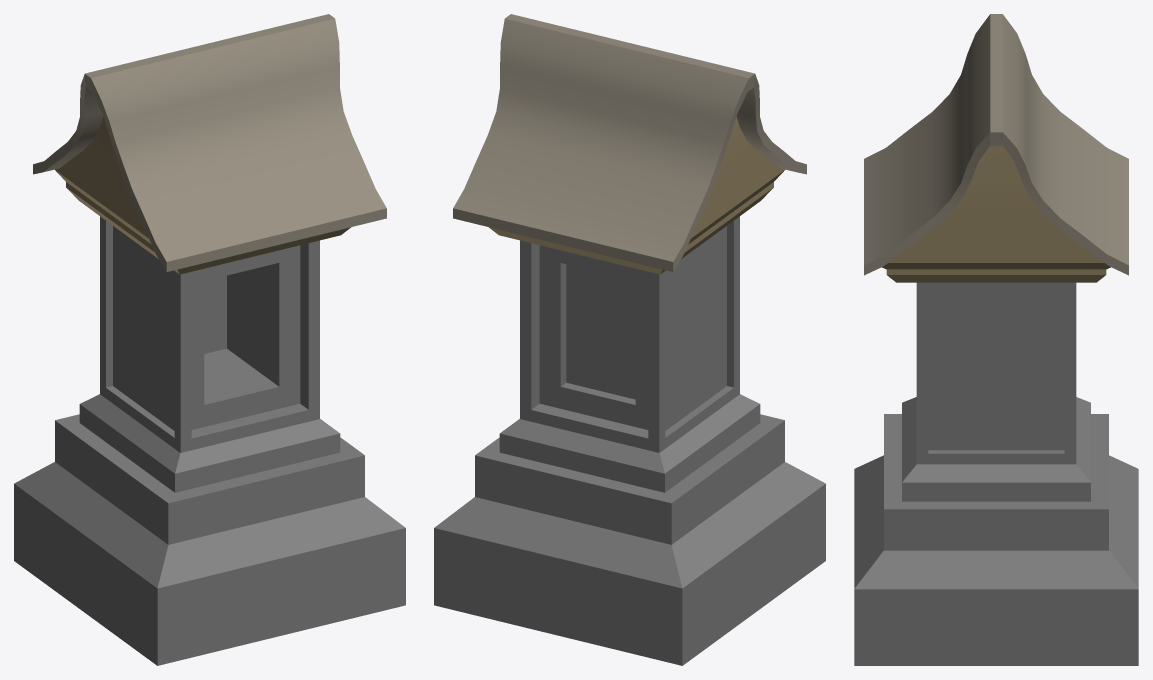
Rendered from MiniShrine.fbx.
3 views of the same model, side by side, from view 1: azimuth 30°, elevation 25°; view 2: azimuth 150°, elevation 25°; view 3: azimuth 270°, elevation 25° (orthographic).
Parts seen in each view (by area): view 1: MiniShrine; view 2: MiniShrine; view 3: MiniShrine.
Boxes of the visible parts, left/top/right/bottom form: MiniShrine: left=14, top=14, right=405, bottom=665; MiniShrine: left=434, top=14, right=825, bottom=665; MiniShrine: left=854, top=14, right=1138, bottom=665.
Size of the model in its own units: 48.47 by 100 by 48.47.
